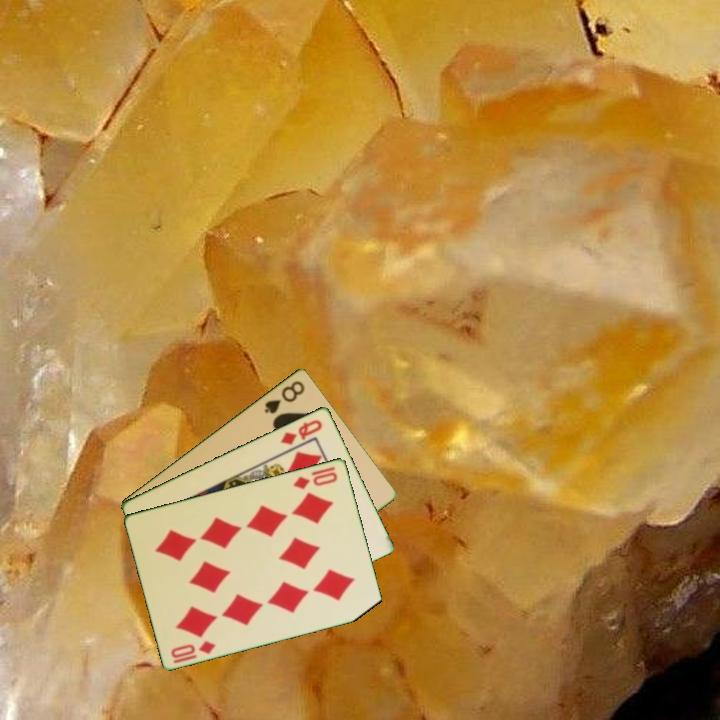10d: (167, 637, 219, 666), (290, 468, 341, 492)
8s: (261, 377, 308, 416)
Qd: (277, 415, 325, 447)
